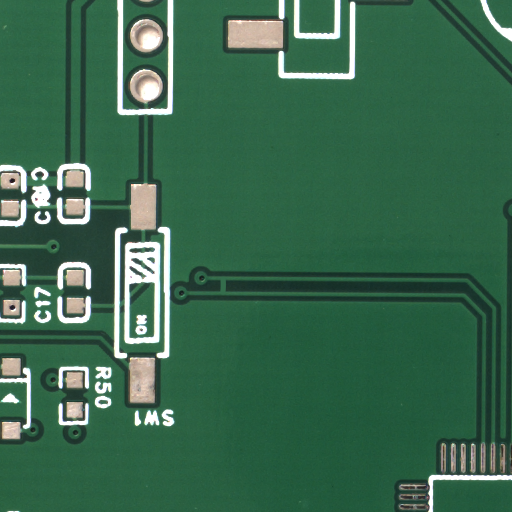Short: (222, 285, 232, 306)
